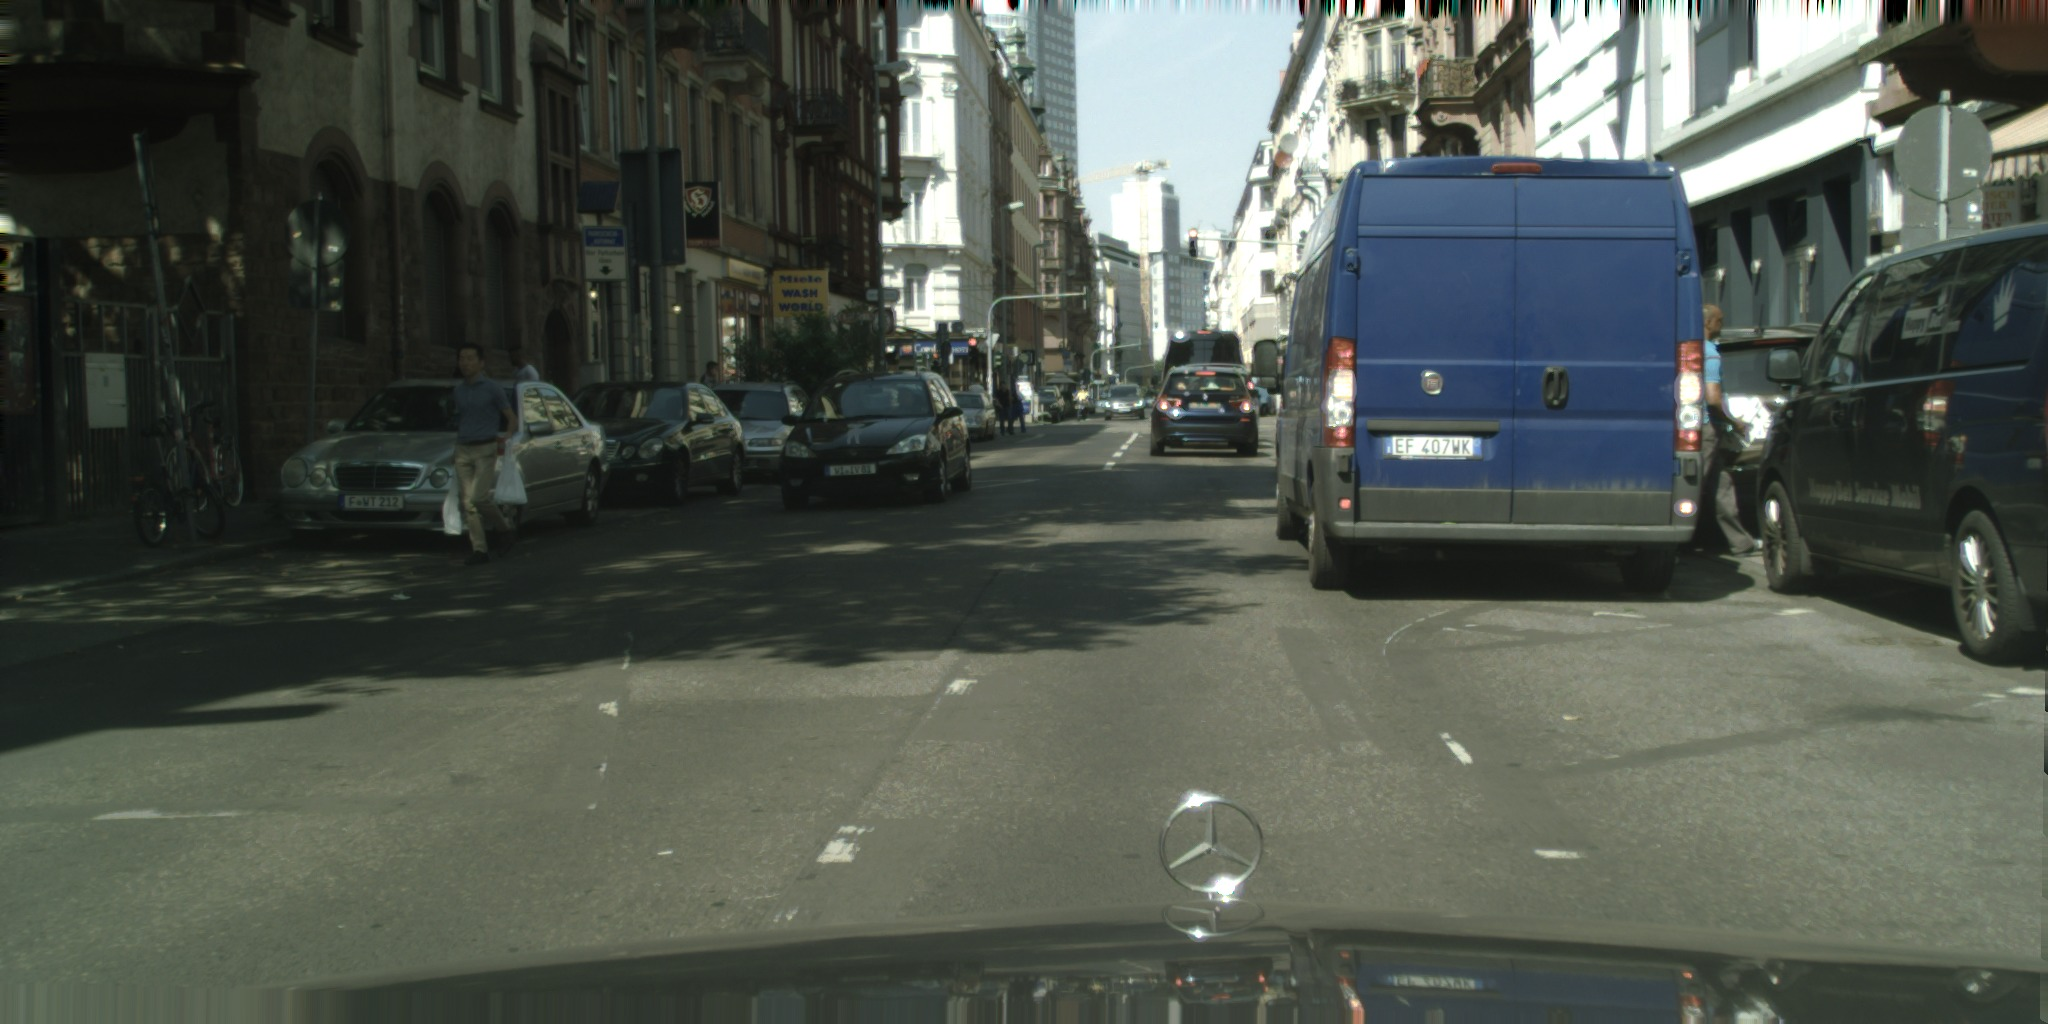bicycle: (131, 400, 228, 548), (158, 397, 243, 510)
car: (1253, 155, 1704, 593), (1756, 216, 2047, 665), (277, 376, 612, 550), (1642, 302, 1843, 548), (779, 365, 972, 509), (566, 379, 747, 506), (706, 378, 839, 485), (1144, 367, 1258, 455), (1256, 344, 1419, 405), (1150, 326, 1245, 393), (1176, 363, 1259, 431), (928, 390, 996, 442), (1225, 362, 1271, 416), (1098, 384, 1146, 420), (1027, 386, 1065, 424), (1054, 390, 1083, 419), (1267, 381, 1308, 395), (1130, 393, 1166, 408), (1098, 389, 1125, 400)
motorcycle: (1073, 397, 1090, 420)
person: (1655, 305, 1784, 566), (441, 341, 529, 566), (506, 344, 540, 397), (689, 360, 719, 405), (996, 381, 1015, 436), (1010, 387, 1026, 433), (967, 376, 984, 405)
rider: (1071, 384, 1090, 420)
